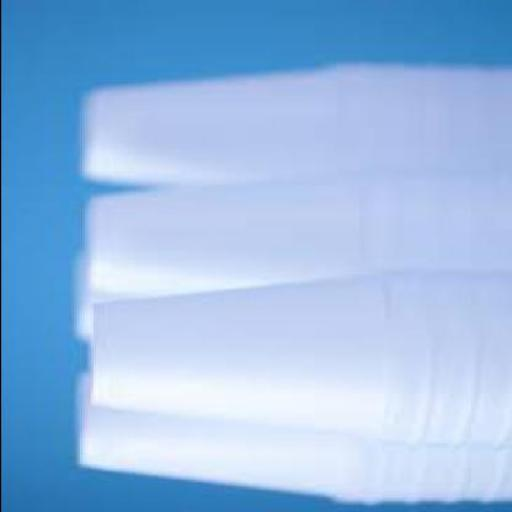paper: (86, 280, 510, 441), (81, 67, 510, 185), (86, 290, 428, 437), (80, 184, 506, 296), (76, 373, 383, 508), (81, 70, 372, 184), (84, 184, 366, 296)
